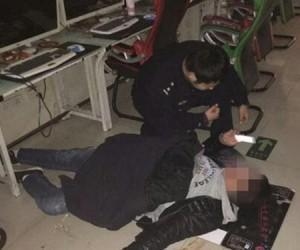Fall-Detected: (4, 107, 286, 248)
